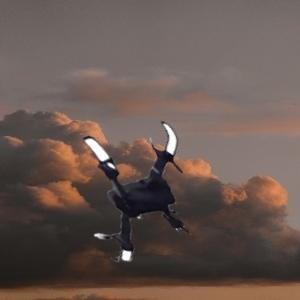drone: (58, 116, 220, 278)
